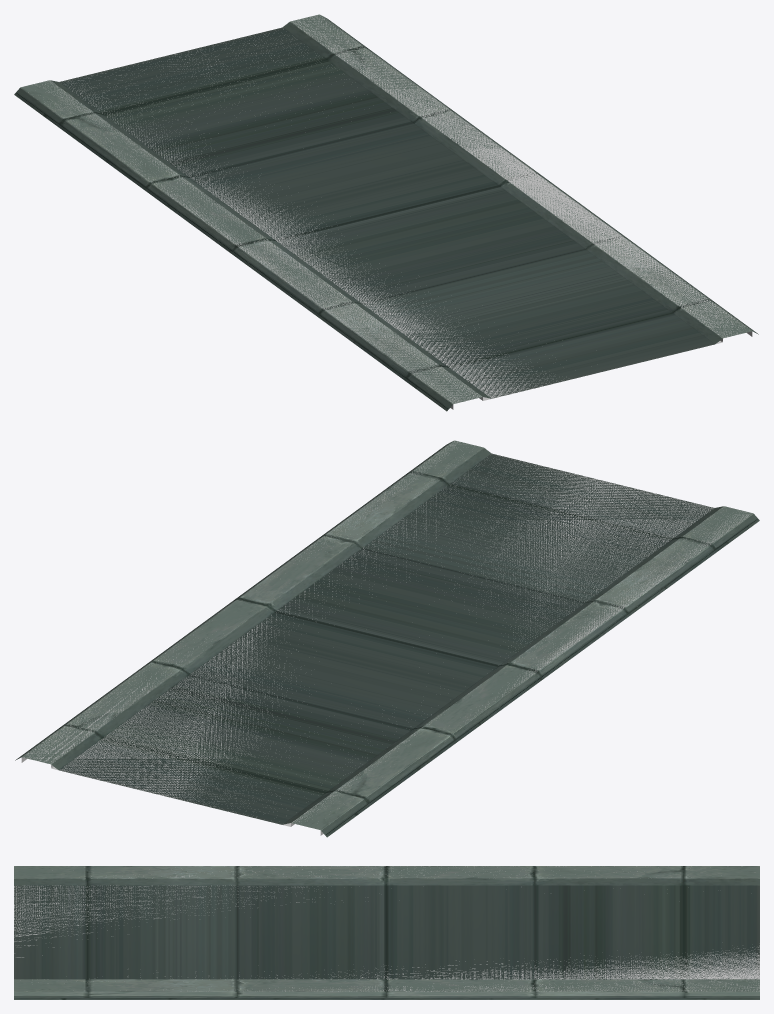
Rendered from JiaYeSiWai1_Lu_1.FBX.
The picture shows the model from 3 angles, top to bottom: view 1: azimuth 30°, elevation 25°; view 2: azimuth 150°, elevation 25°; view 3: azimuth 270°, elevation 25°; orthographic projection. The views are drawn at different scales.
Visible parts, largest first — view 1: JiaYeSiWai1_Lu_1_Xzm, JiaYeSiWai1_Lu_1; view 2: JiaYeSiWai1_Lu_1_Xzm, JiaYeSiWai1_Lu_1; view 3: JiaYeSiWai1_Lu_1_Xzm, JiaYeSiWai1_Lu_1.
Boxes of the visible parts, x1,y1,x2,y2 form: JiaYeSiWai1_Lu_1_Xzm: (14, 14, 758, 411); JiaYeSiWai1_Lu_1: (28, 14, 752, 409); JiaYeSiWai1_Lu_1_Xzm: (15, 440, 759, 837); JiaYeSiWai1_Lu_1: (21, 440, 749, 835); JiaYeSiWai1_Lu_1_Xzm: (14, 866, 759, 999); JiaYeSiWai1_Lu_1: (14, 866, 759, 991).
Bounding box in the file's own units: 442 × 7.81 × 1057.
